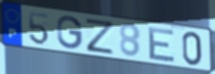0: (180, 30, 204, 67)
5: (27, 10, 51, 46)
8: (118, 23, 143, 60)
E: (148, 26, 177, 64)
G: (56, 15, 84, 50)
Z: (85, 17, 117, 56)
